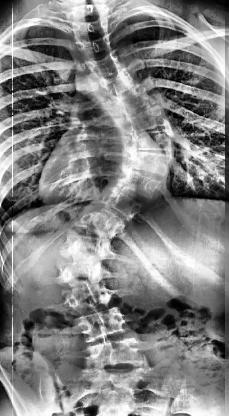Vertebrae: (77, 338, 146, 372), (58, 226, 114, 264), (74, 305, 130, 343), (56, 254, 114, 288), (62, 276, 116, 312), (74, 204, 122, 242), (108, 85, 160, 119), (96, 186, 144, 222), (121, 103, 172, 136), (112, 169, 161, 203), (119, 150, 173, 178), (96, 68, 138, 102), (87, 50, 125, 82), (125, 129, 175, 153), (77, 32, 114, 62), (70, 16, 112, 42)
